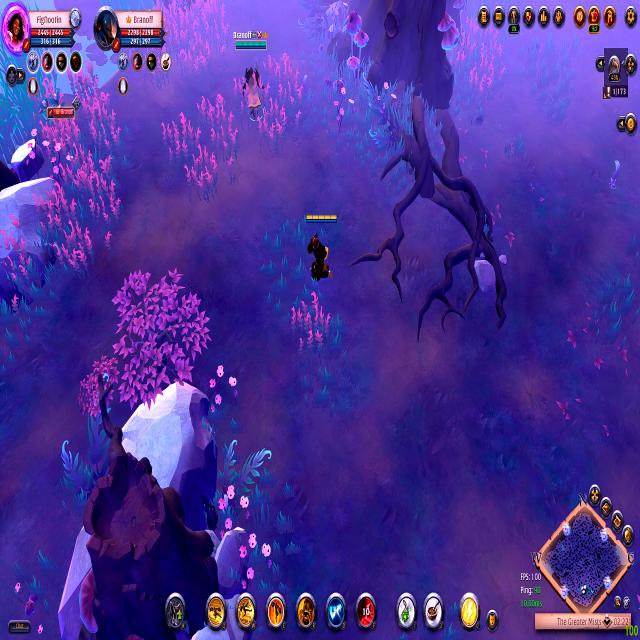red: (229, 24, 278, 140), (301, 208, 338, 302)
